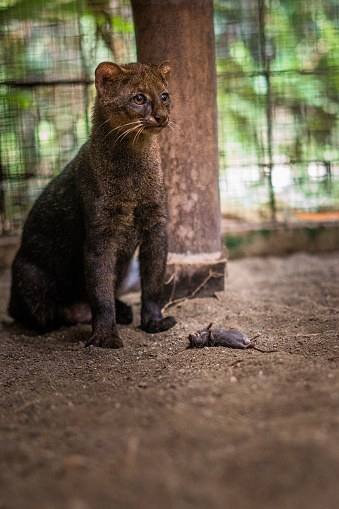Jaguarundi: (8, 53, 186, 351)
